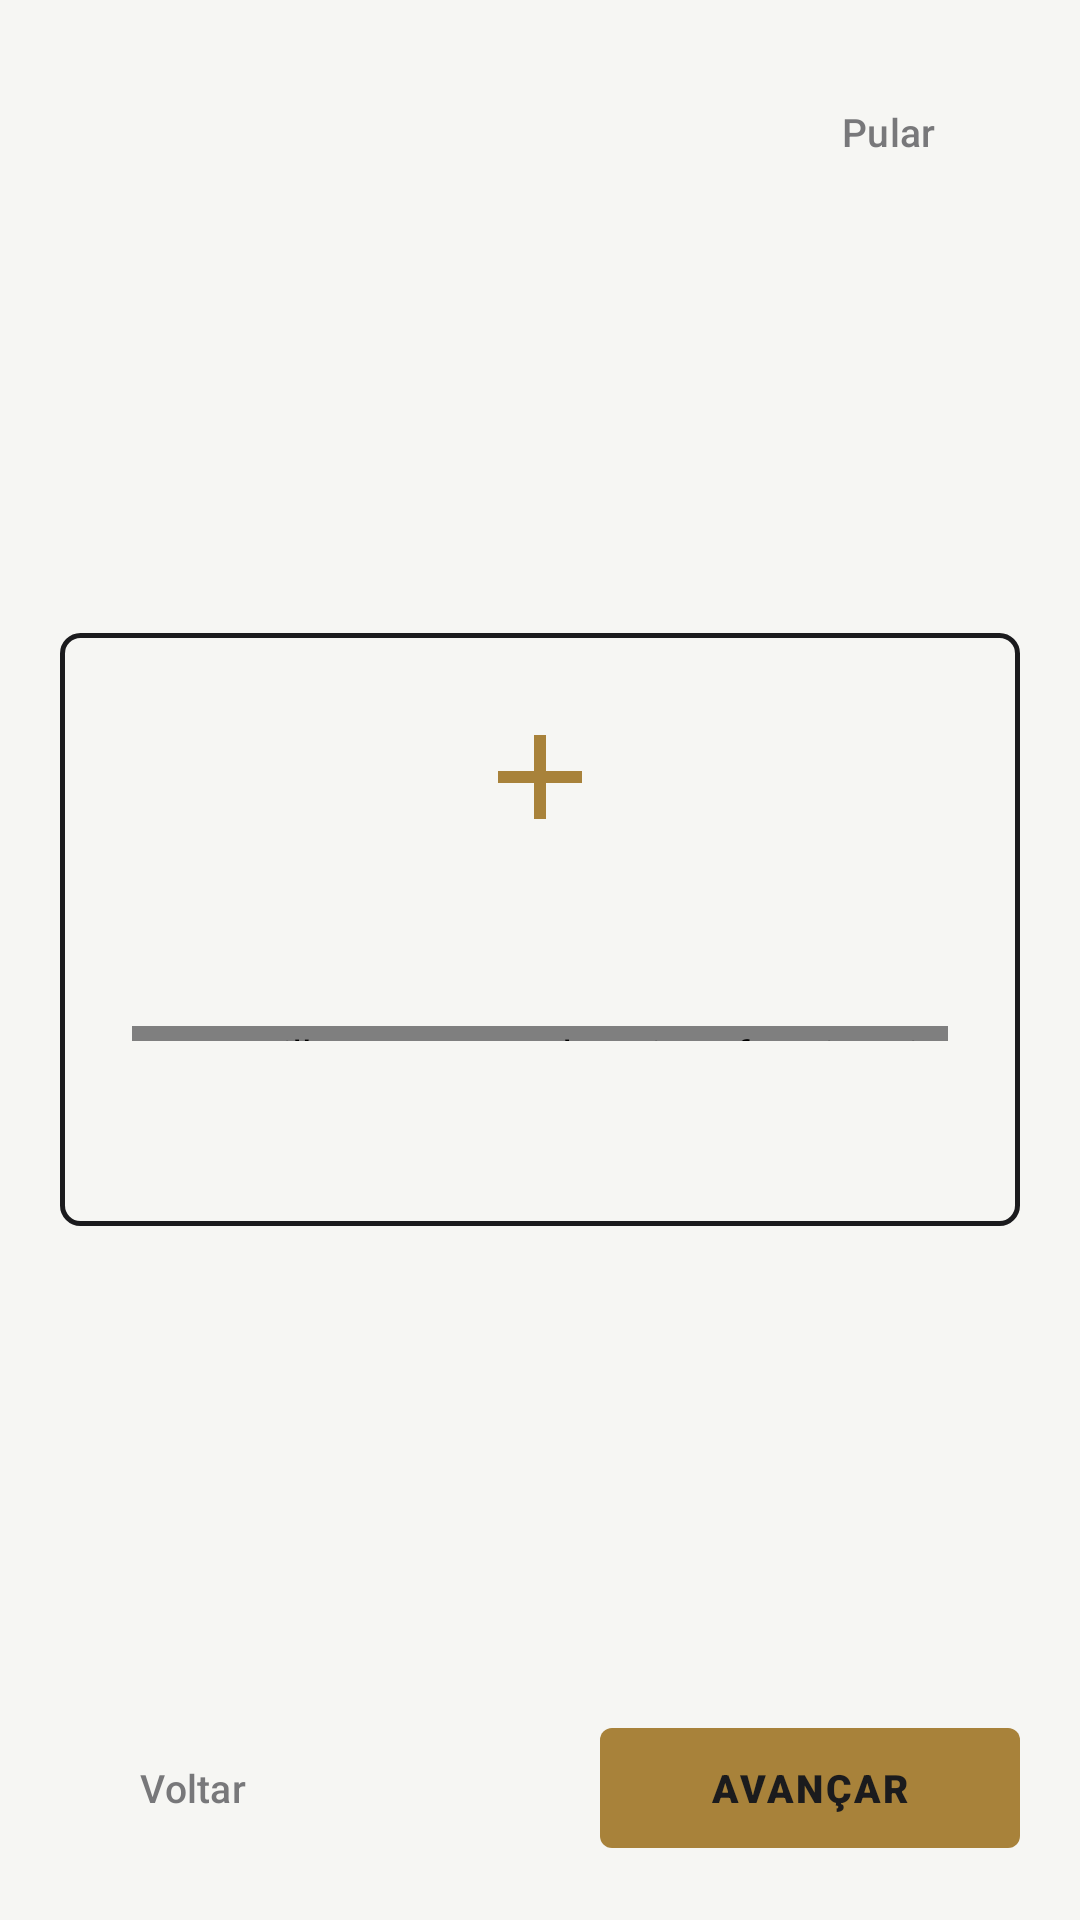

Icon bounding boxes for this 1080*1920 phone screenshot, format (x1, y1, x2, y2):
add: (498, 735, 582, 819)
